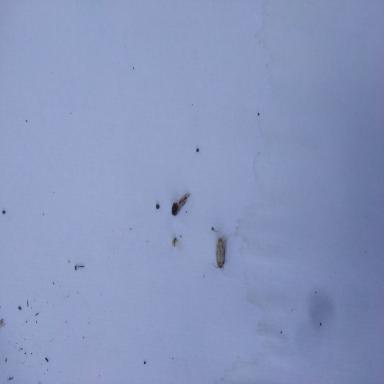pbw: (212, 233, 231, 275)
